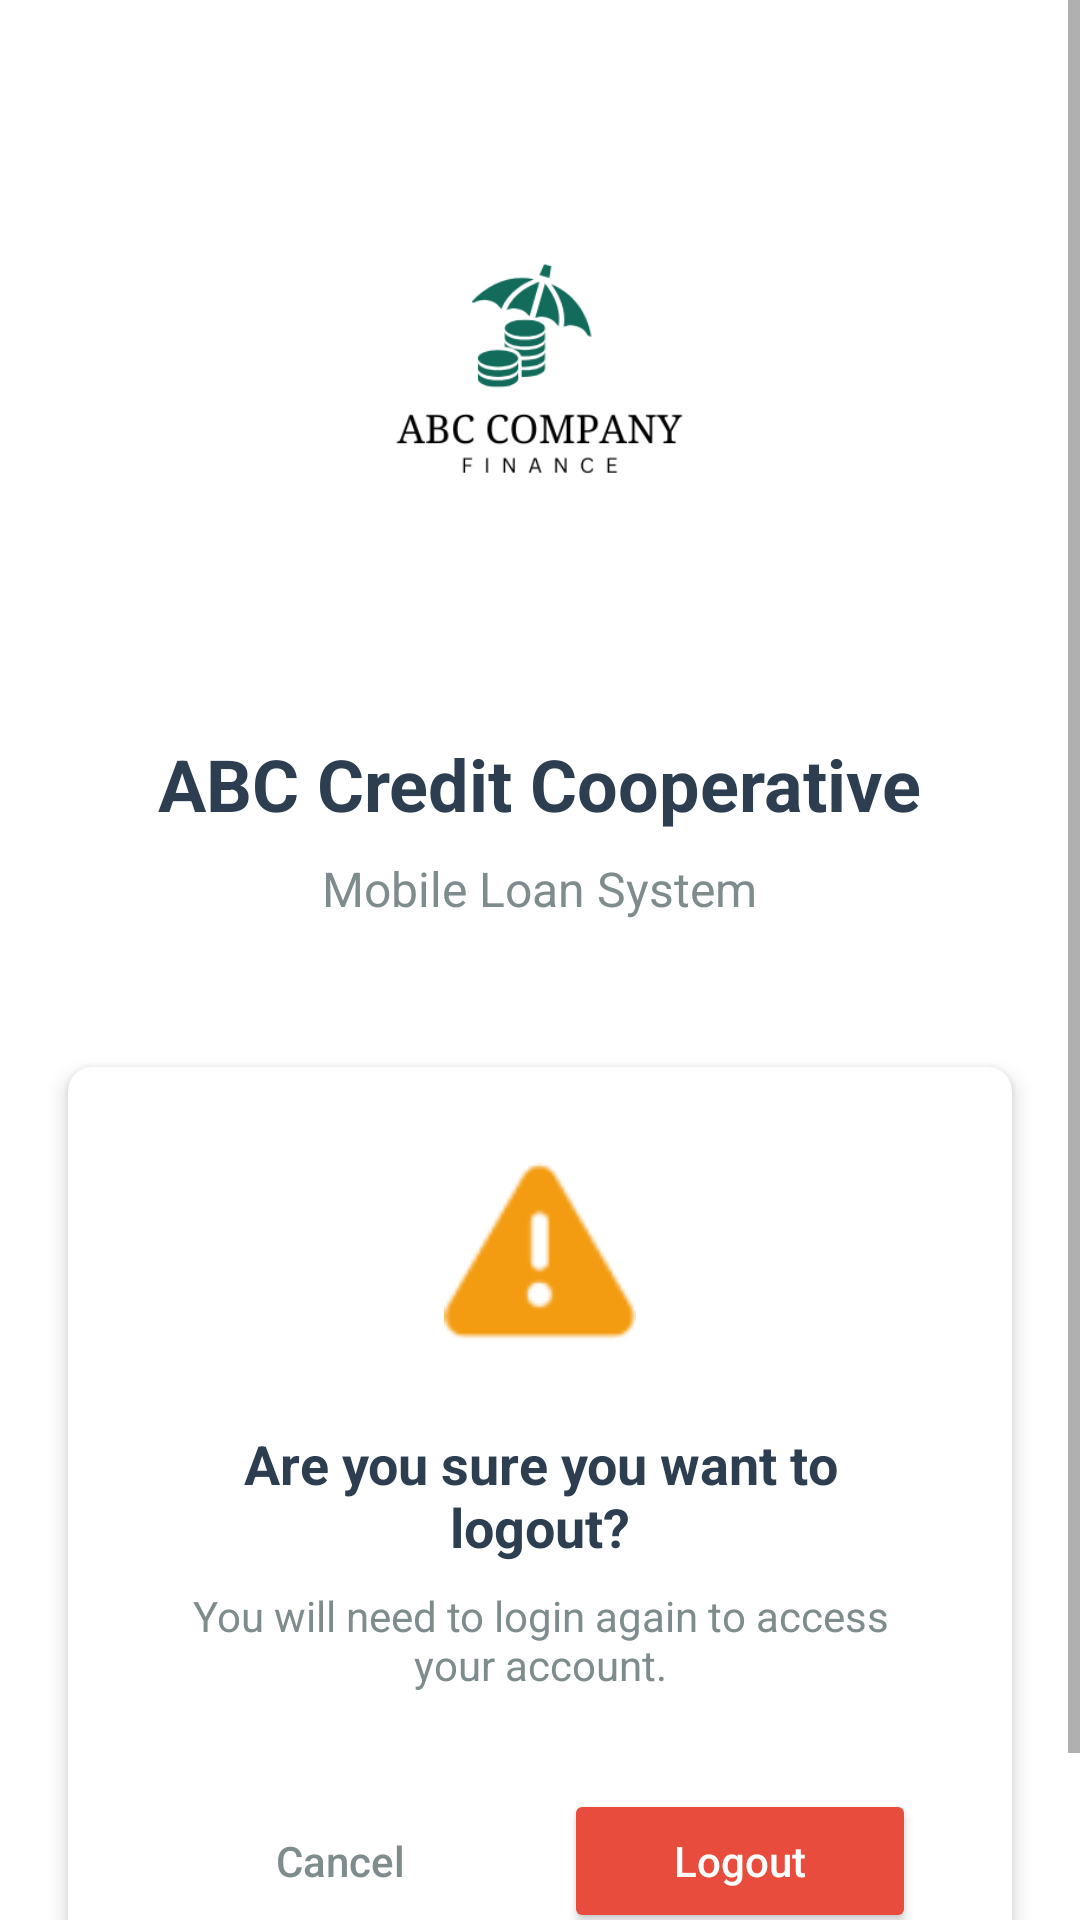

Screen size 1080w x 1920h. Icon name, then its box in pixels as (x1, y1, x2, y2):
Warning: (444, 1163, 636, 1338)
